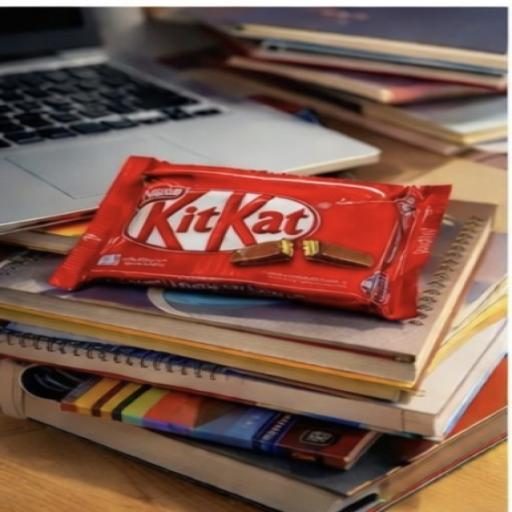kitkat: (53, 107, 486, 344)
